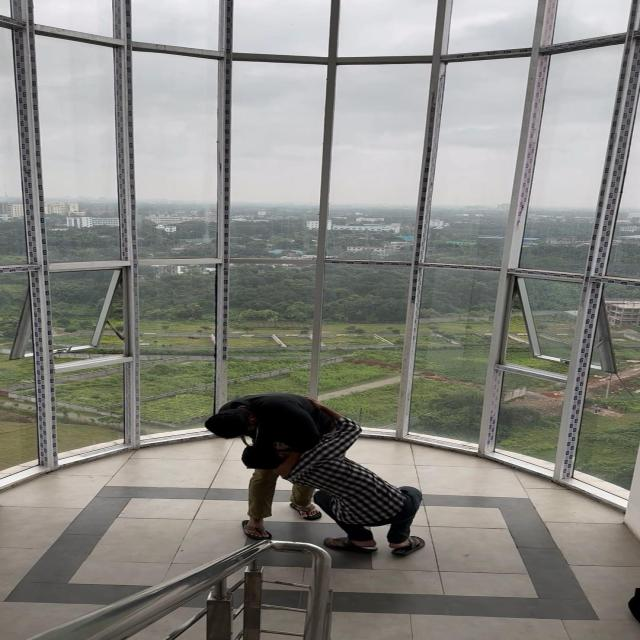fight: (138, 371, 496, 572)
